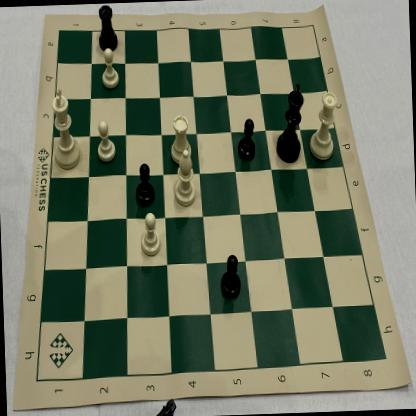black-king: (271, 79, 309, 166)
black-pawn: (216, 250, 246, 301), (132, 159, 157, 210), (234, 113, 258, 164)
black-rook: (93, 3, 121, 56)
white-bishop: (171, 148, 201, 212)
white-king: (47, 82, 85, 172)
white-pawn: (136, 210, 166, 261), (92, 118, 120, 168), (97, 48, 124, 94)
white-queen: (306, 86, 342, 164)
white-rook: (167, 108, 195, 166)
